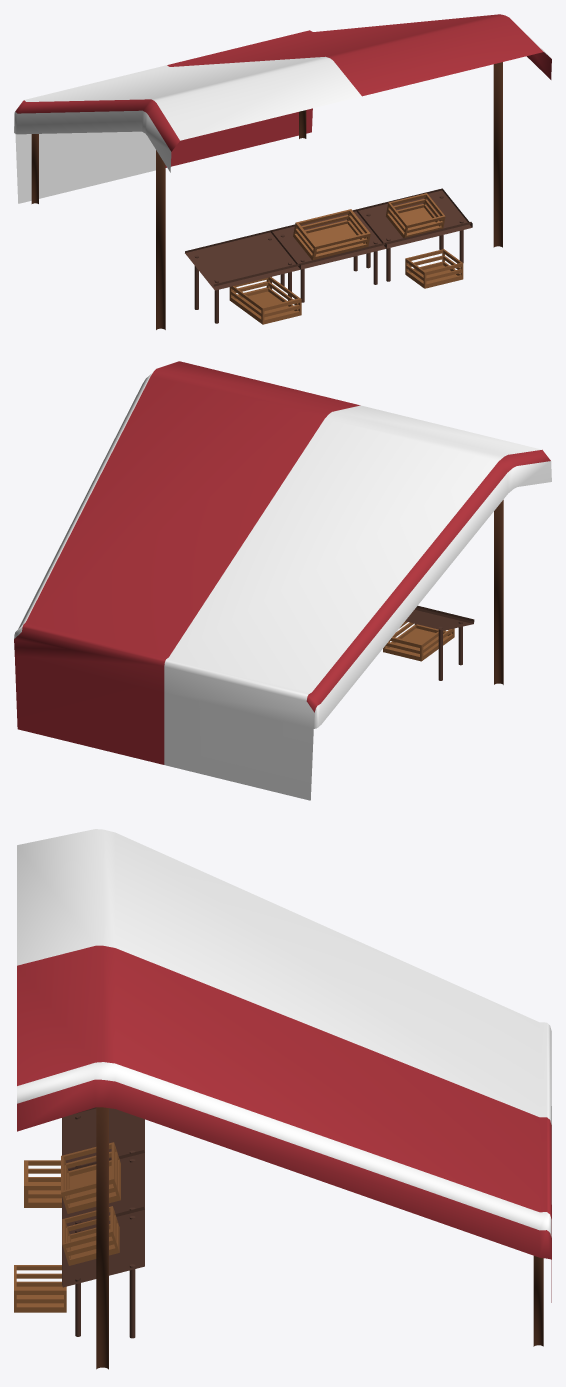
File: stand6.fbx
3 views of the same model, one above another, from view 1: azimuth 30°, elevation 25°; view 2: azimuth 150°, elevation 25°; view 3: azimuth 270°, elevation 25° (orthographic). The views are drawn at different scales.
Parts seen in each view (by area): view 1: Cube.005; view 2: Cube.005; view 3: Cube.005.
Part boxes in pixels (left/top/right/bottom): Cube.005: left=14, top=14, right=551, bottom=329; Cube.005: left=14, top=361, right=551, bottom=800; Cube.005: left=14, top=829, right=551, bottom=1369.
Bounding box in the file's own units: 1364 × 791 × 1227.
